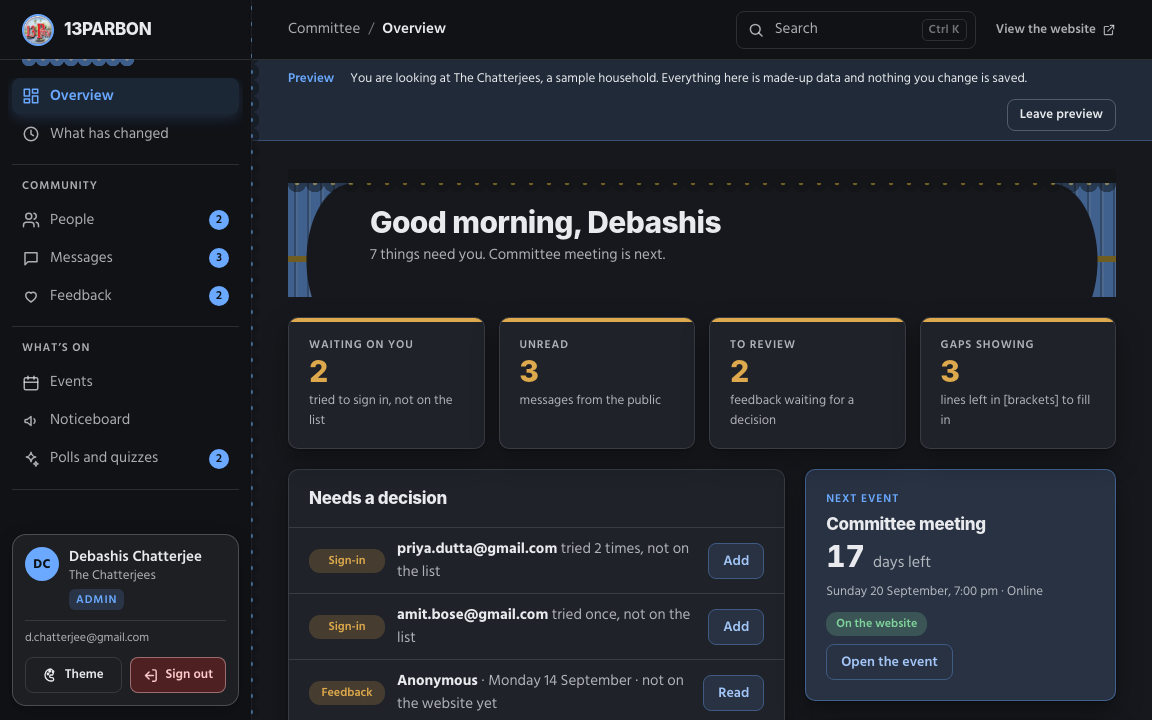
Scenario: portal access › asks before signing out, and staying keeps you where you were
Expected: the heading "Good morning, Debashis" is shown, [370,206,721,238]
Step 1. Click the button "Sign out" → {"x": 178, "y": 675}, box [130,657,226,693]
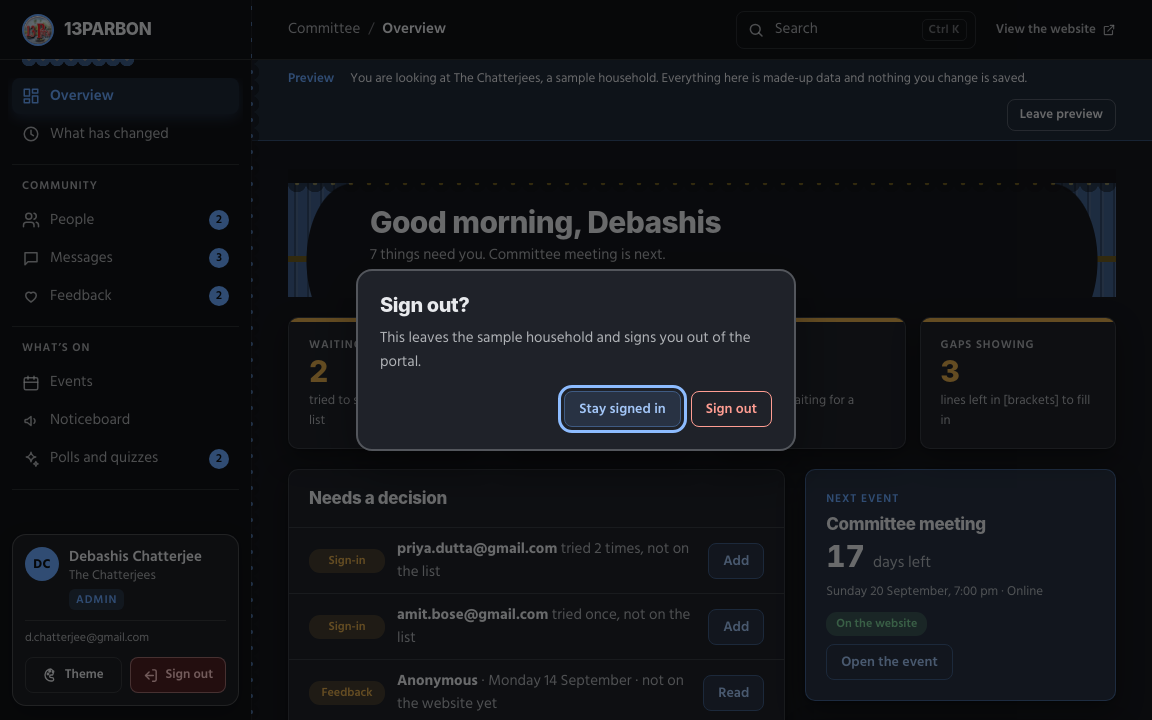
Step 2. Click the button "Stay signed in" → {"x": 622, "y": 409}, box [564,391,681,427]
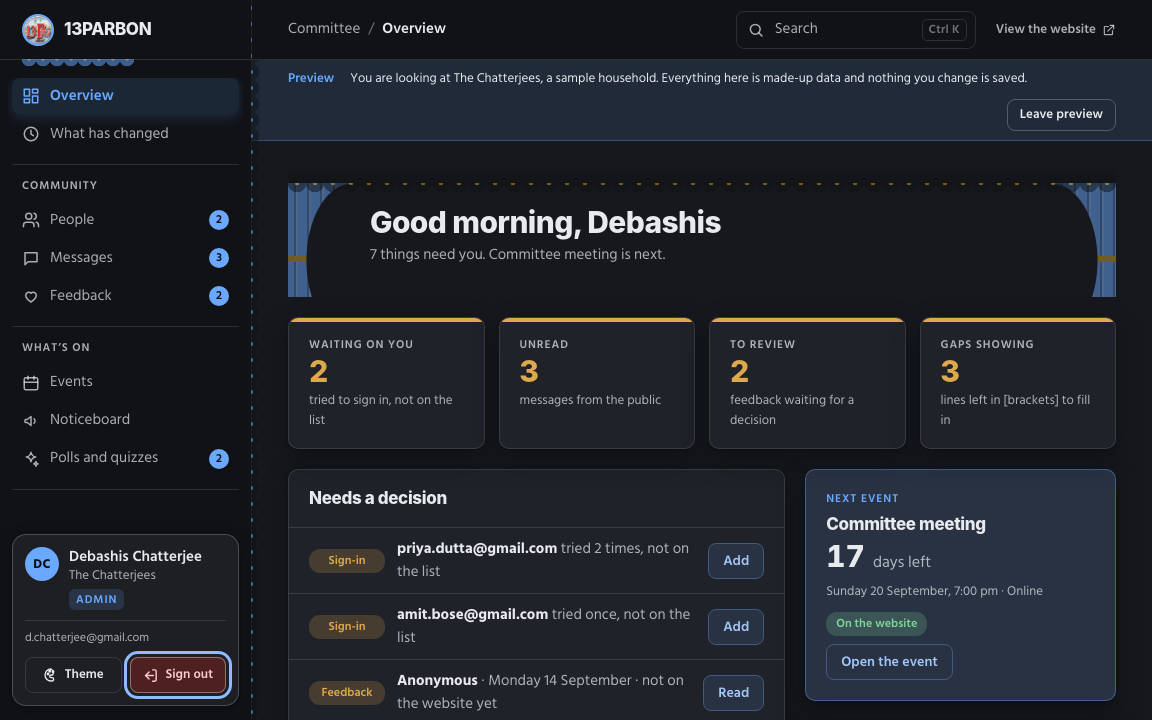
Expected: the dialog is gone
